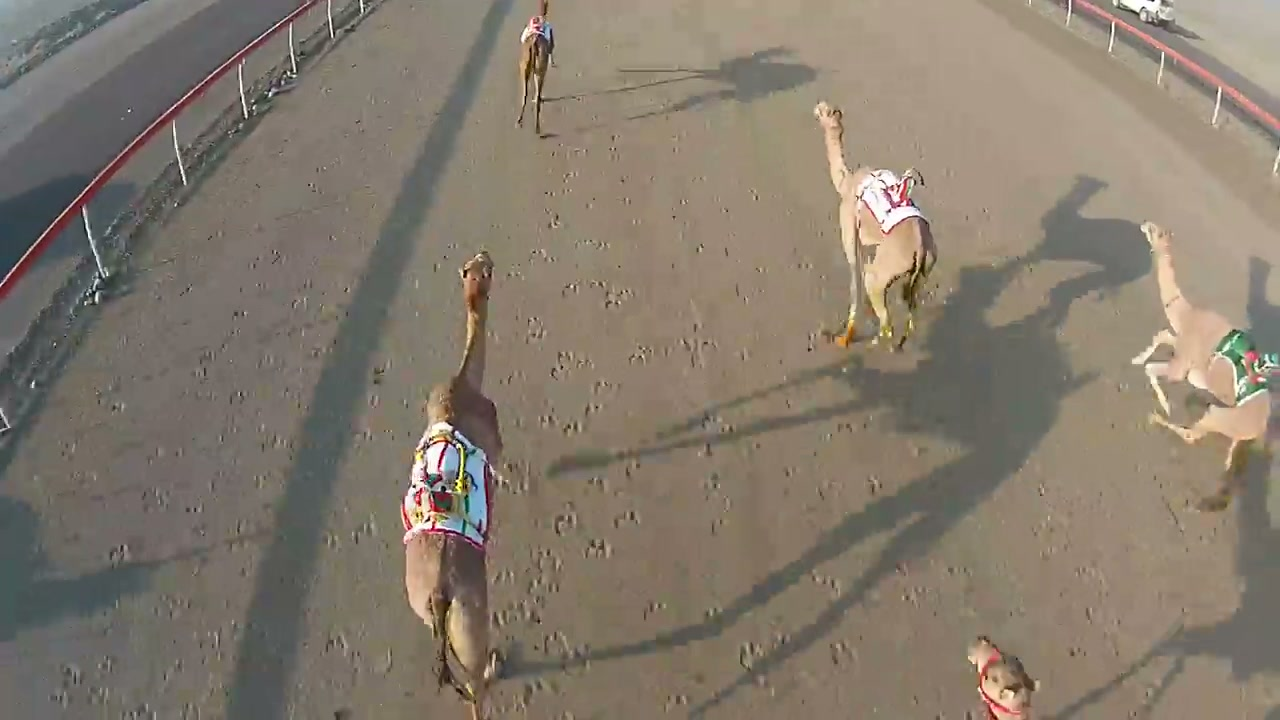animal_foot_print: (71, 253, 377, 719), (484, 235, 668, 717)
